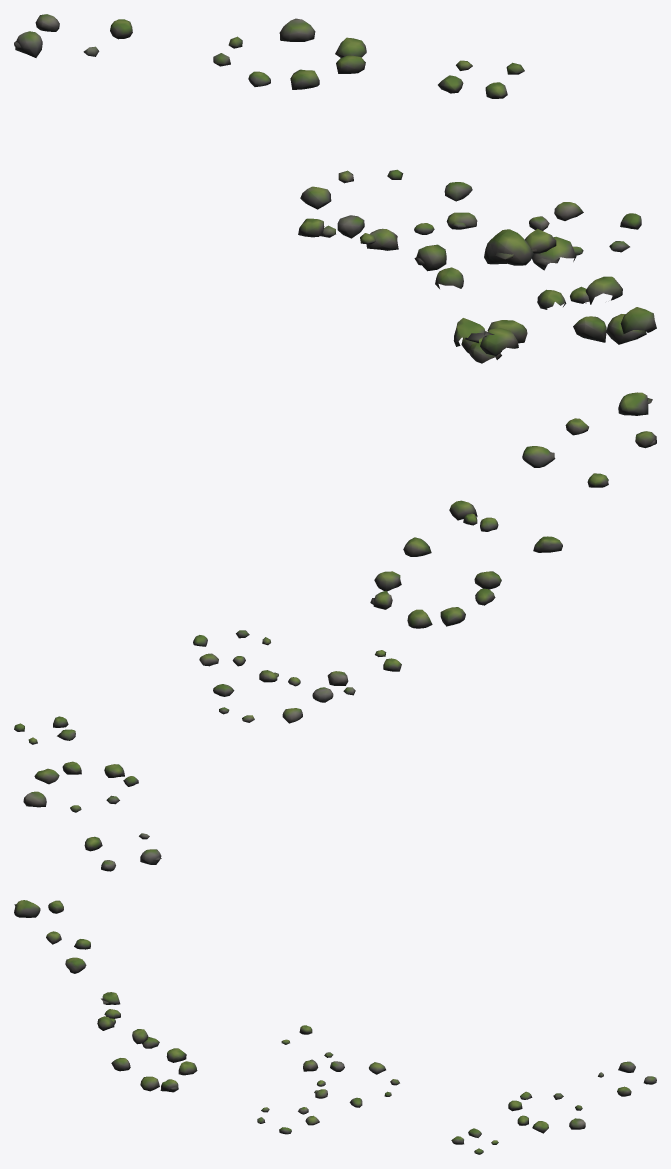
File: cove-rocks.glb
3 views of the same model, one above another, from view 1: azimuth 30°, elevation 25°; view 2: azimuth 150°, elevation 25°; view 3: azimuth 270°, elevation 25° (orthographic). The views are drawn at different scales.
Parts seen in each view (by area): view 1: cove-rocks; view 2: cove-rocks; view 3: cove-rocks.
Boxes of the visible parts, x1=… form: cove-rocks: x1=14, y1=14, x2=656, y2=363; cove-rocks: x1=14, y1=392, x2=656, y2=871; cove-rocks: x1=14, y1=900, x2=656, y2=1154.
Bounding box in the file's own units: 19.14 × 9.94 × 40.39.
